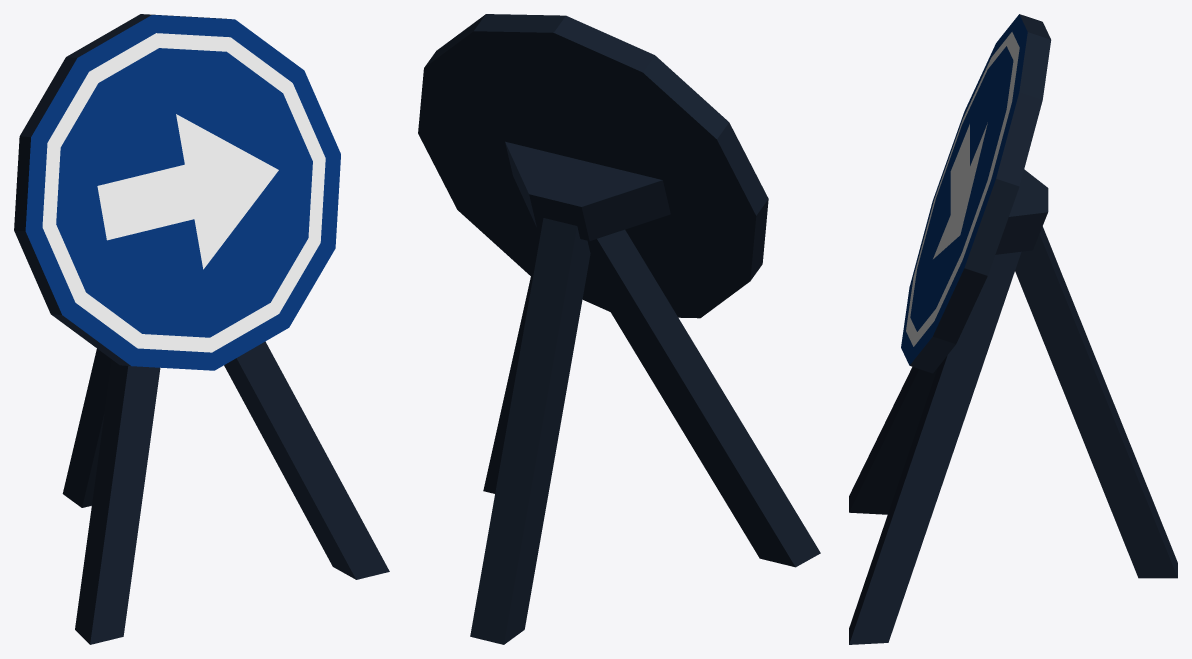
The model's file is Sign_B_Right.fbx.
3 renders of one model, left to right at view 1: azimuth 30°, elevation 25°; view 2: azimuth 150°, elevation 25°; view 3: azimuth 270°, elevation 25°, orthographic. The views are drawn at different scales.
Parts seen in each view (by area): view 1: Sign_B_Right; view 2: Sign_B_Right; view 3: Sign_B_Right.
Part boxes in pixels (x1,y1,x2,y2): Sign_B_Right: (14,14,389,644); Sign_B_Right: (418,14,820,644); Sign_B_Right: (849,14,1177,644).
Bounding box in the file's own units: 14.28 × 22.88 × 12.66.
